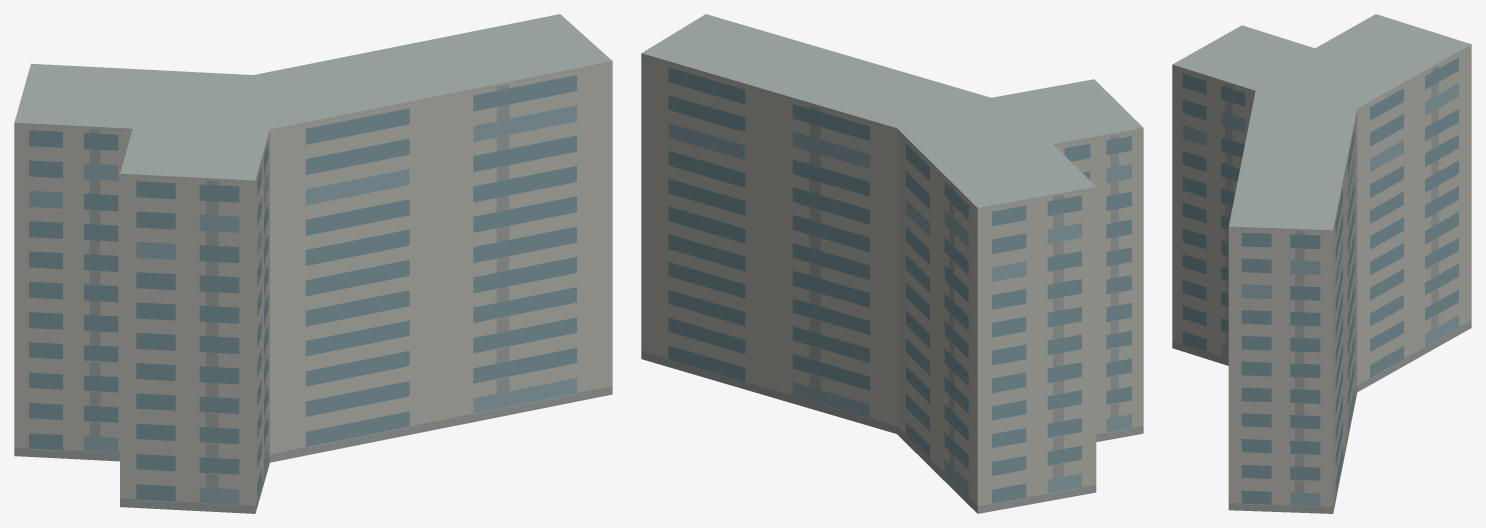
Rendered from residential-b3f5a27e-31f2-434e-96a3-41c5f0a853bb.glb.
3 renders of one model, left to right at view 1: azimuth 30°, elevation 25°; view 2: azimuth 150°, elevation 25°; view 3: azimuth 270°, elevation 25°, orthographic. The views are drawn at different scales.
Parts seen in each view (by area): view 1: residential-b3f5a27e-31f2-434e-96a3-41c5f0a853bb.tmp; view 2: residential-b3f5a27e-31f2-434e-96a3-41c5f0a853bb.tmp; view 3: residential-b3f5a27e-31f2-434e-96a3-41c5f0a853bb.tmp.
Part boxes in pixels (x1,y1,x2,y2): residential-b3f5a27e-31f2-434e-96a3-41c5f0a853bb.tmp: [14, 14, 612, 513]; residential-b3f5a27e-31f2-434e-96a3-41c5f0a853bb.tmp: [641, 14, 1143, 513]; residential-b3f5a27e-31f2-434e-96a3-41c5f0a853bb.tmp: [1172, 14, 1471, 513].
Size of the model in its own units: 50.68 by 31 by 29.63.
